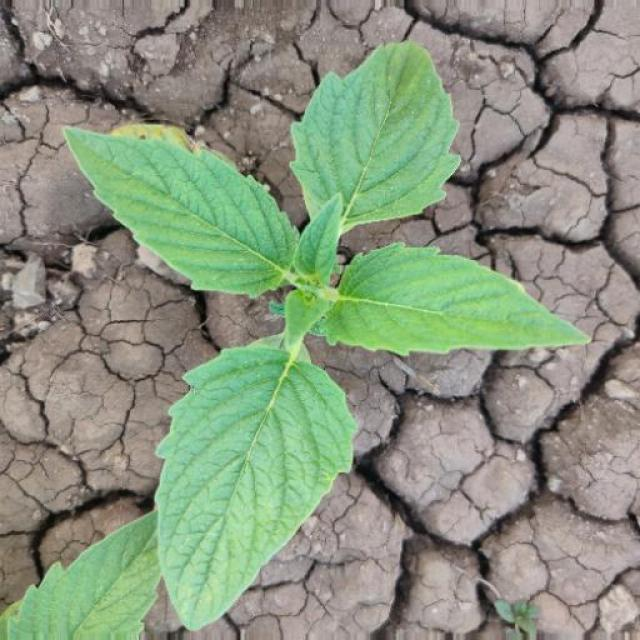crop: (31, 48, 591, 632)
